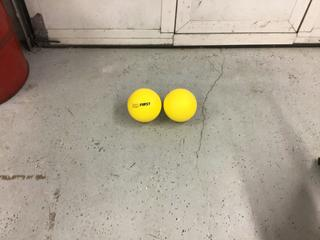power_cell: (124, 86, 163, 125), (164, 89, 204, 126)
